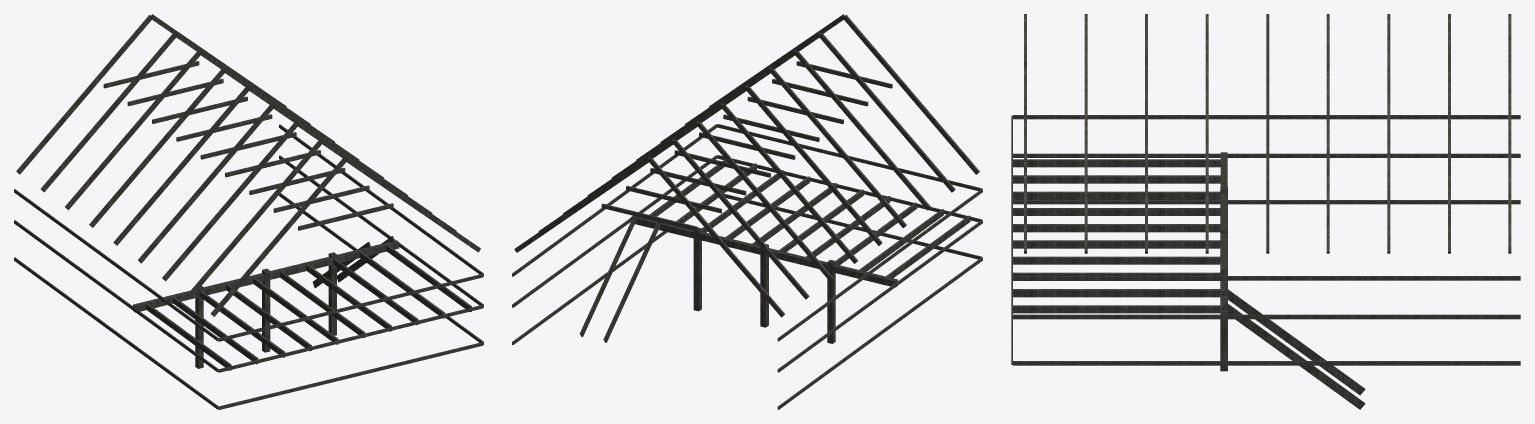
Rendered from hollow_barn_interior.glb.
3 views of the same model, side by side, from view 1: azimuth 30°, elevation 25°; view 2: azimuth 150°, elevation 25°; view 3: azimuth 270°, elevation 25° (orthographic). The views are drawn at different scales.
Parts seen in each view (by area): view 1: hollow_barn_interior; view 2: hollow_barn_interior; view 3: hollow_barn_interior.
Boxes of the visible parts, x1,y1,x2,y2 form: hollow_barn_interior: (14, 14, 483, 409); hollow_barn_interior: (512, 14, 982, 409); hollow_barn_interior: (1011, 14, 1520, 409).
Size of the model in its own units: 9.09 by 8.21 by 11.94.
Materials: 2 (2 with a texture image).
